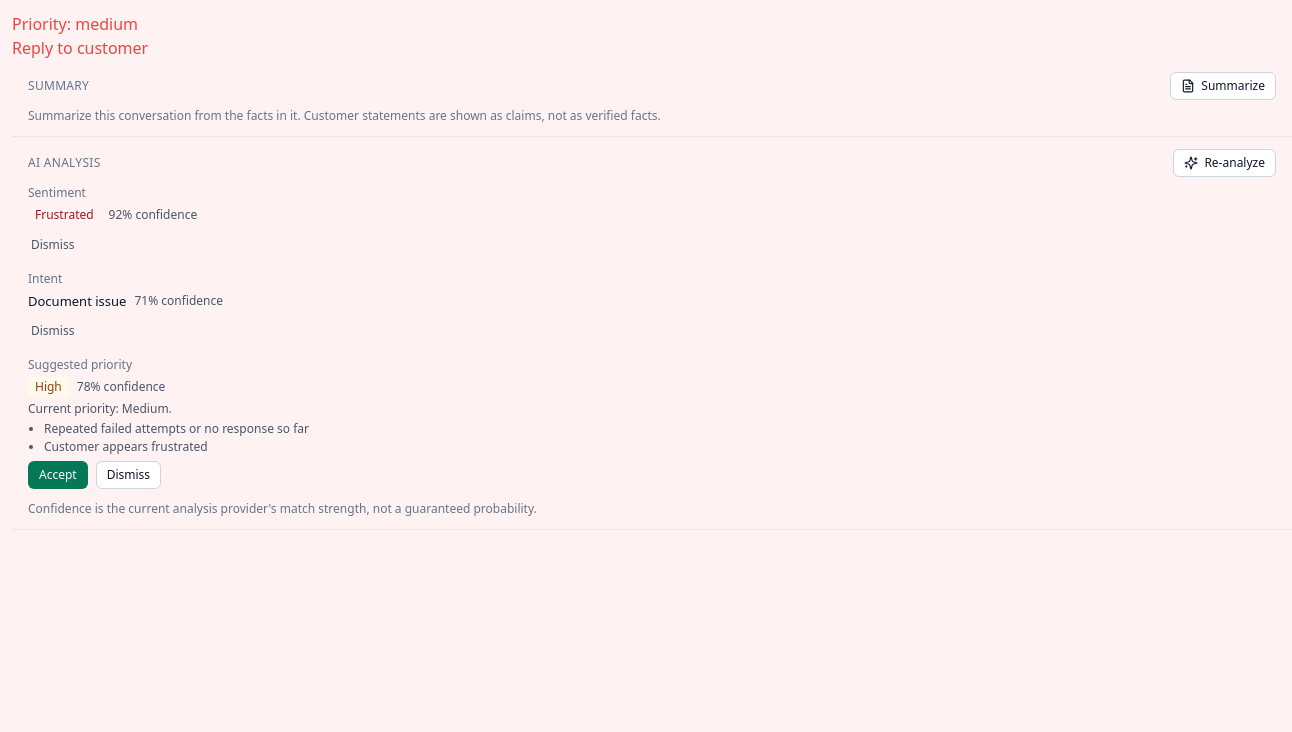
Test: AI analysis panel › when Node reports the suggestion was already handled (409), it says so and reloads the real state
Click the button "Accept" at x=58, y=475, box [28,461,88,489]
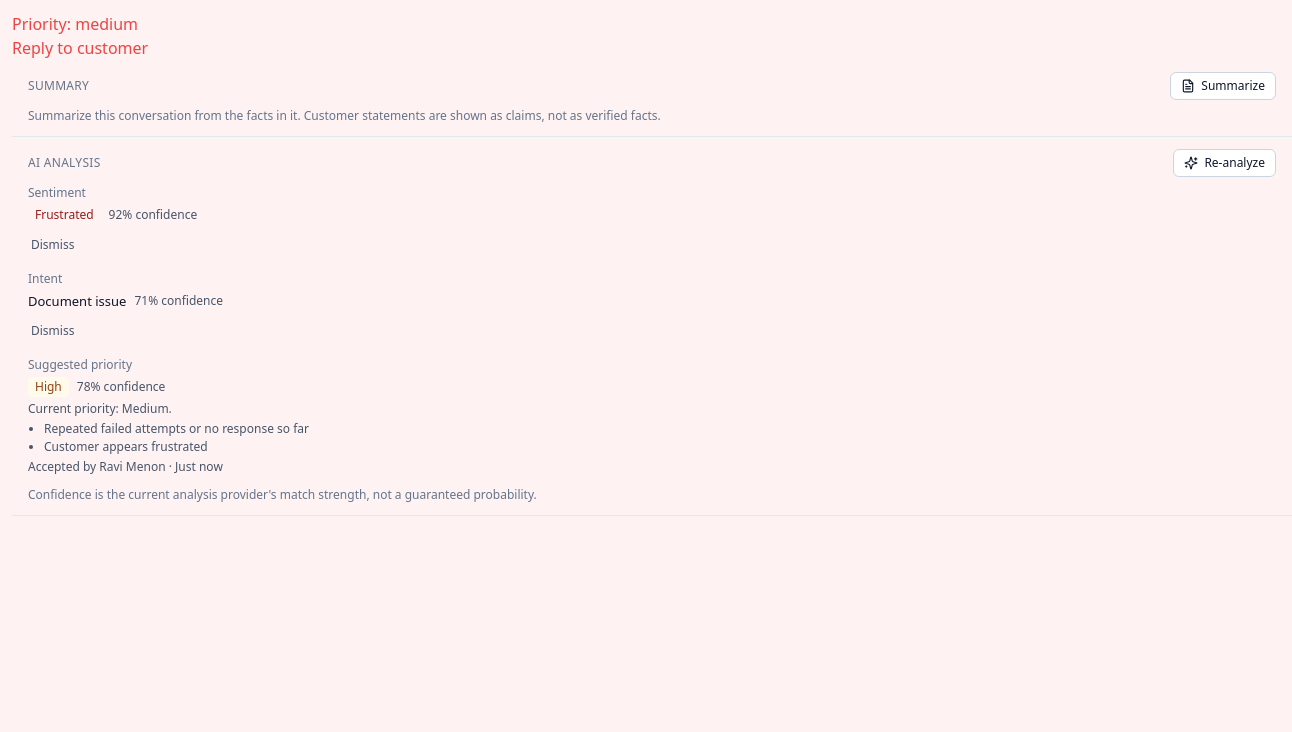
Expected: the text "Accepted by Ravi Menon · Just now" is shown, [28,458,223,475]
